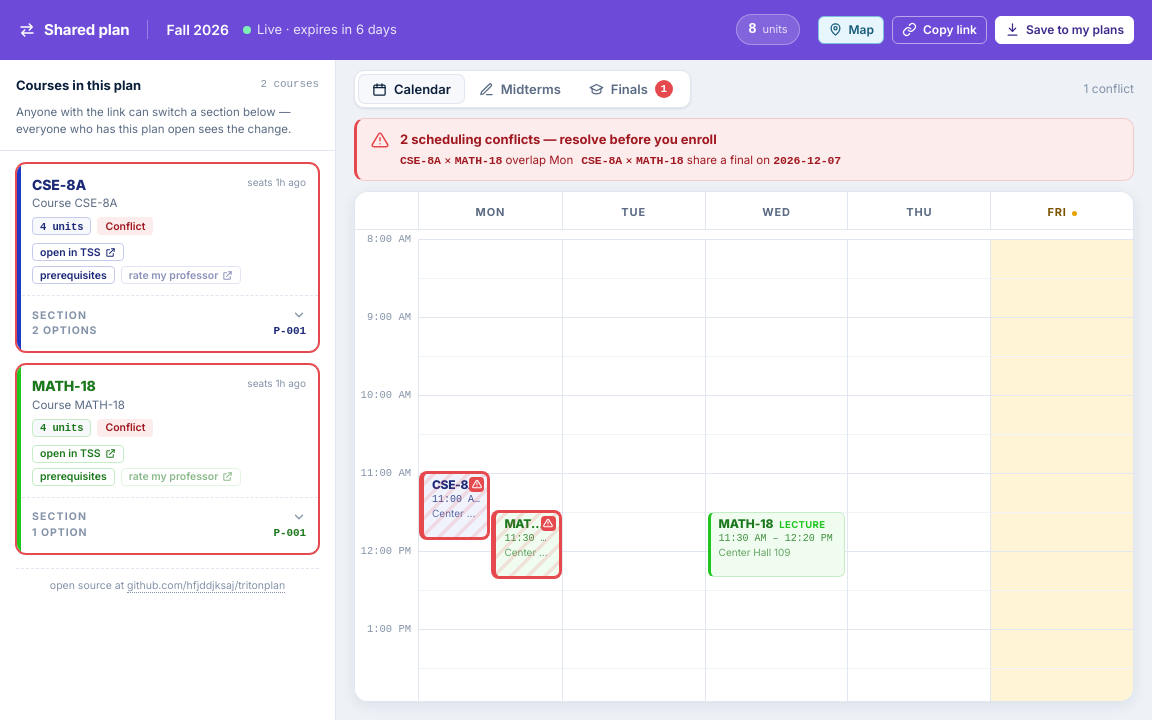
Test: SharedPlanPage: Save to my plans › a save that throws leaves the dialog closable with the same error
Click the button "Save to my plans".
click(1064, 30)  # box [995,16,1134,44]
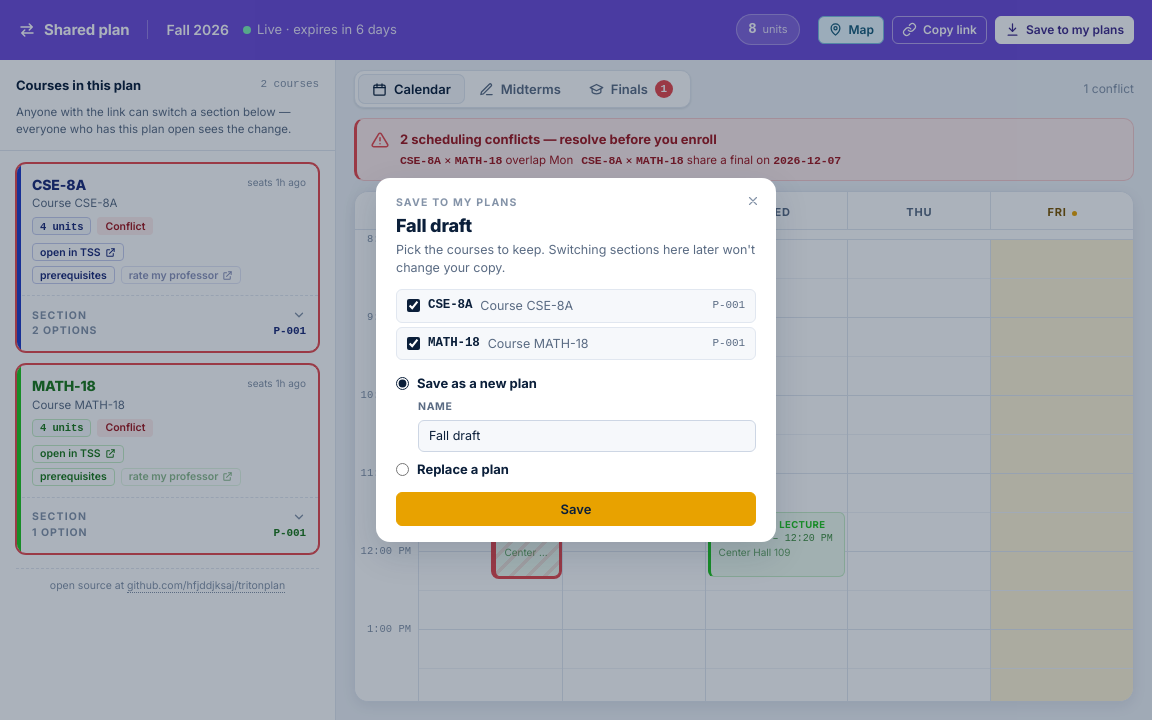
Click the button "Save".
click(576, 509)  # box [396,492,756,526]
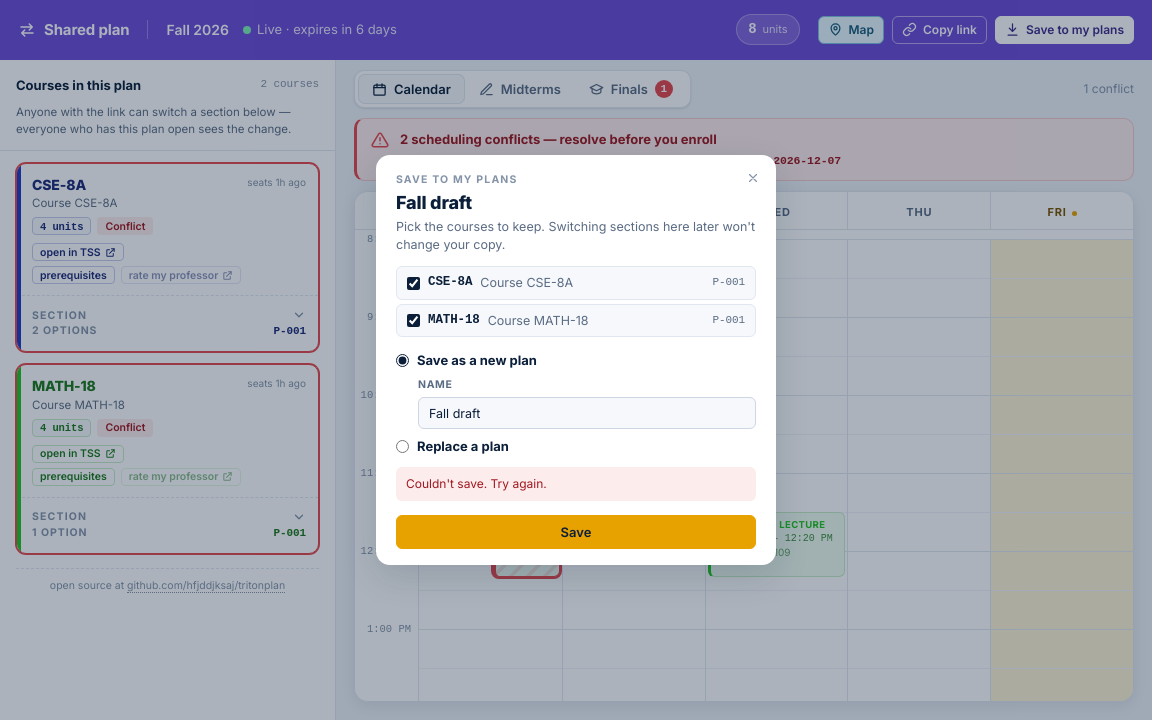
Expected: the message "Couldn't save. Try again." is shown, [396,467,756,501]
Click the button named "Close".
click(753, 178)  # box [740,165,766,191]
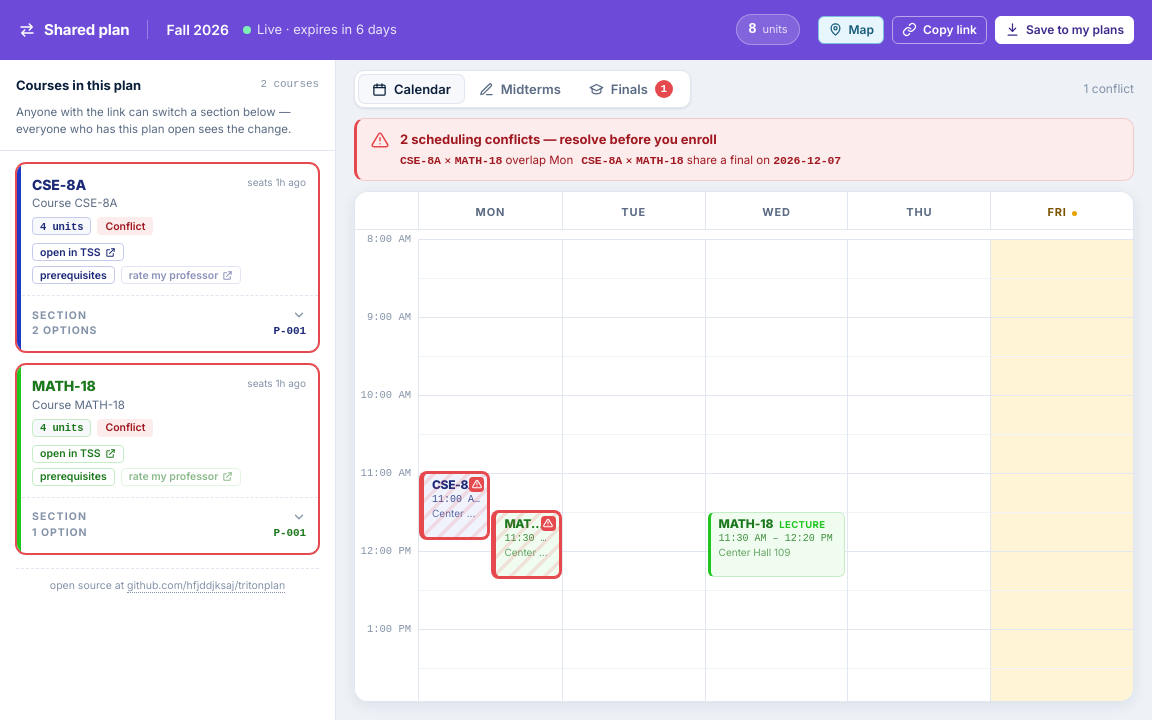
Expected: the dialog is gone
